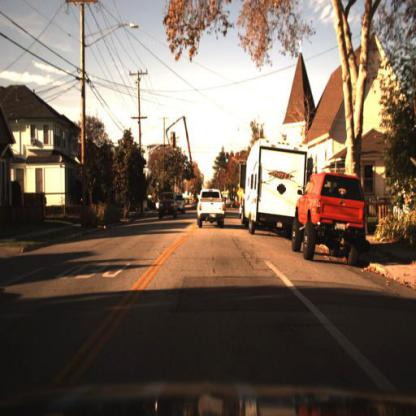car: (291, 172, 368, 264), (194, 188, 227, 232), (158, 191, 179, 220)
trafficLight-Green: (224, 149, 232, 169)
truck: (239, 136, 312, 238), (245, 133, 311, 236)
